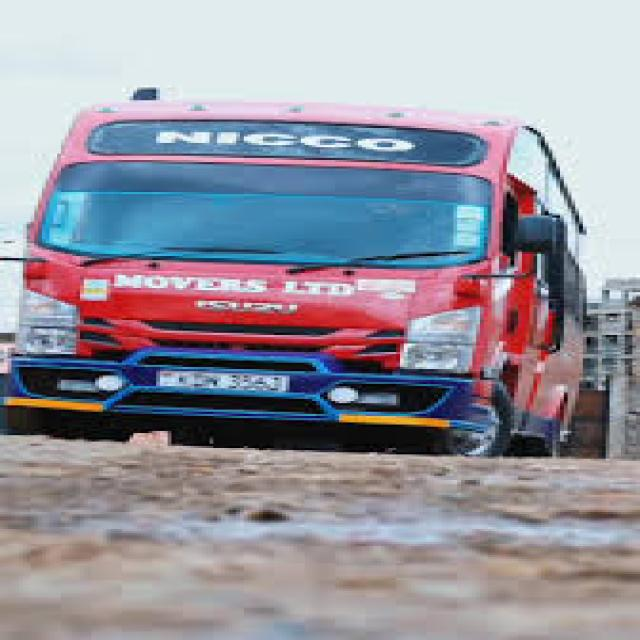bus: (6, 68, 633, 464)
